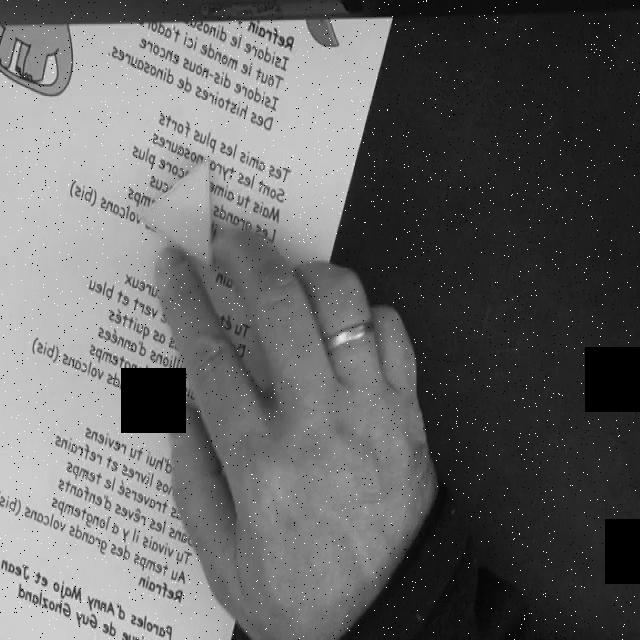triangle: (138, 156, 212, 273)
